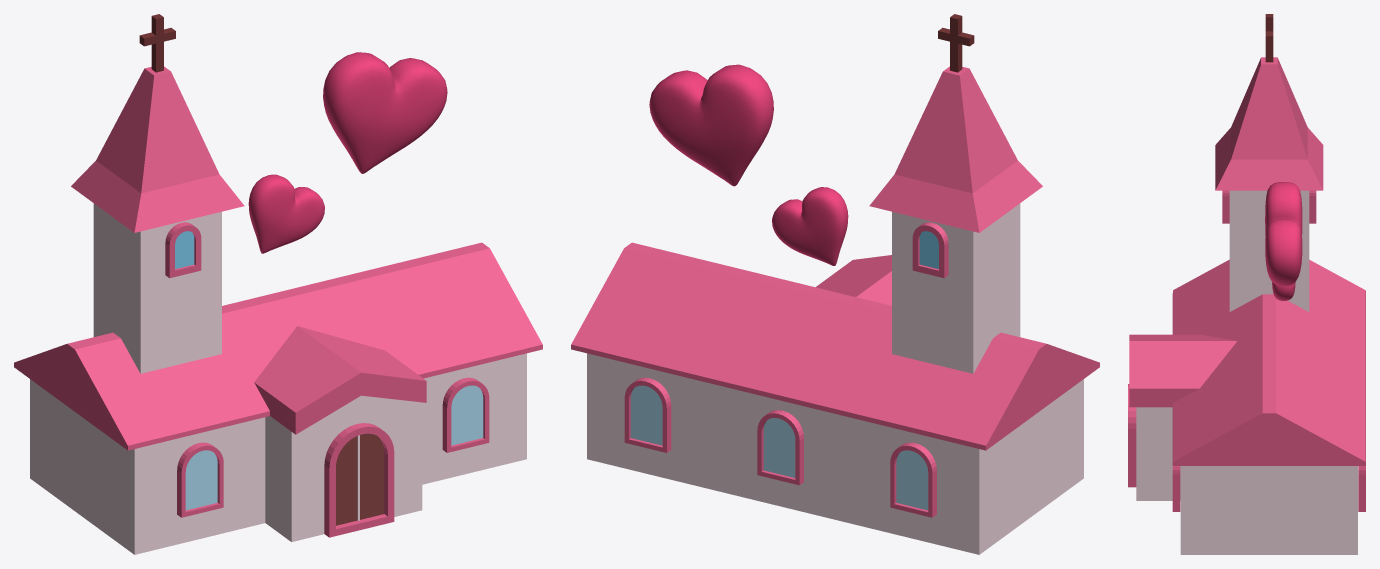
The model's file is wedding.fbx.
3 views of the same model, side by side, from view 1: azimuth 30°, elevation 25°; view 2: azimuth 150°, elevation 25°; view 3: azimuth 270°, elevation 25° (orthographic). The views are drawn at different scales.
Visible parts, largest first — view 1: Cube.478; view 2: Cube.478; view 3: Cube.478.
Boxes of the visible parts, x1=… form: Cube.478: x1=14, y1=14, x2=542, y2=554; Cube.478: x1=571, y1=14, x2=1099, y2=554; Cube.478: x1=1128, y1=14, x2=1365, y2=554.
Bounding box in the file's own units: 200 × 223 × 117.
1 material, 1 textured.
